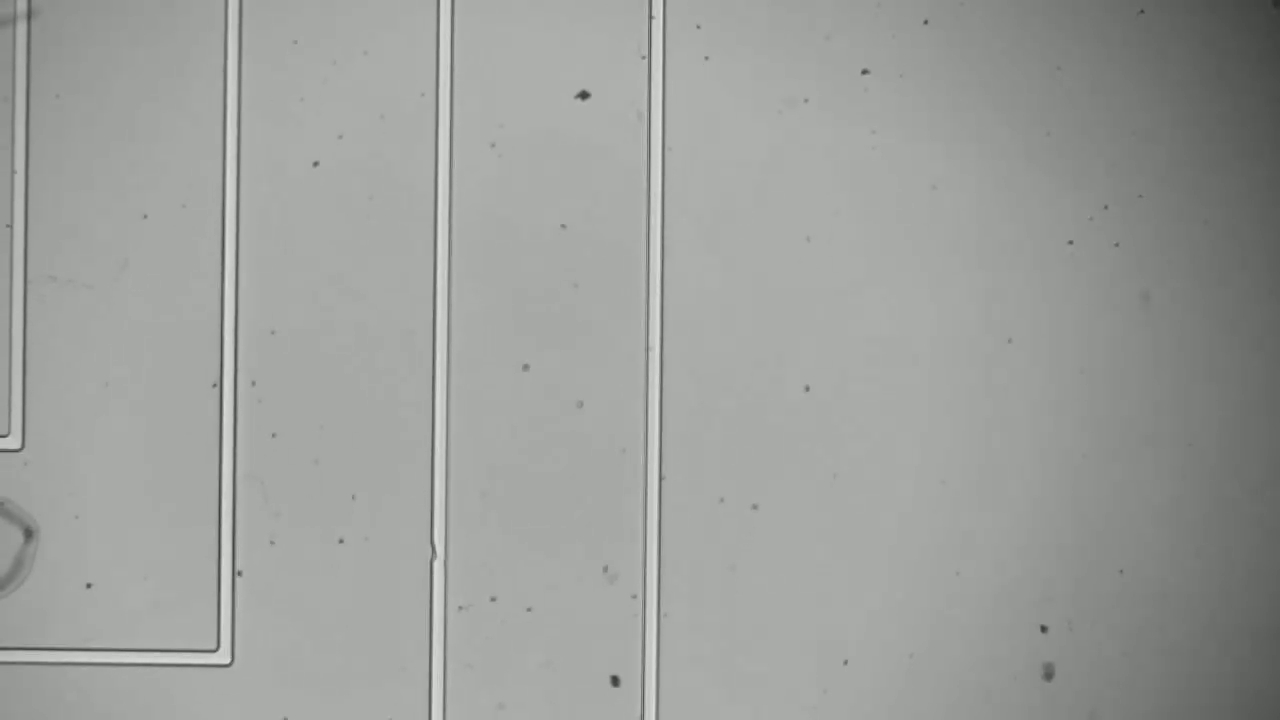edge_bite: (423, 532, 451, 569)
